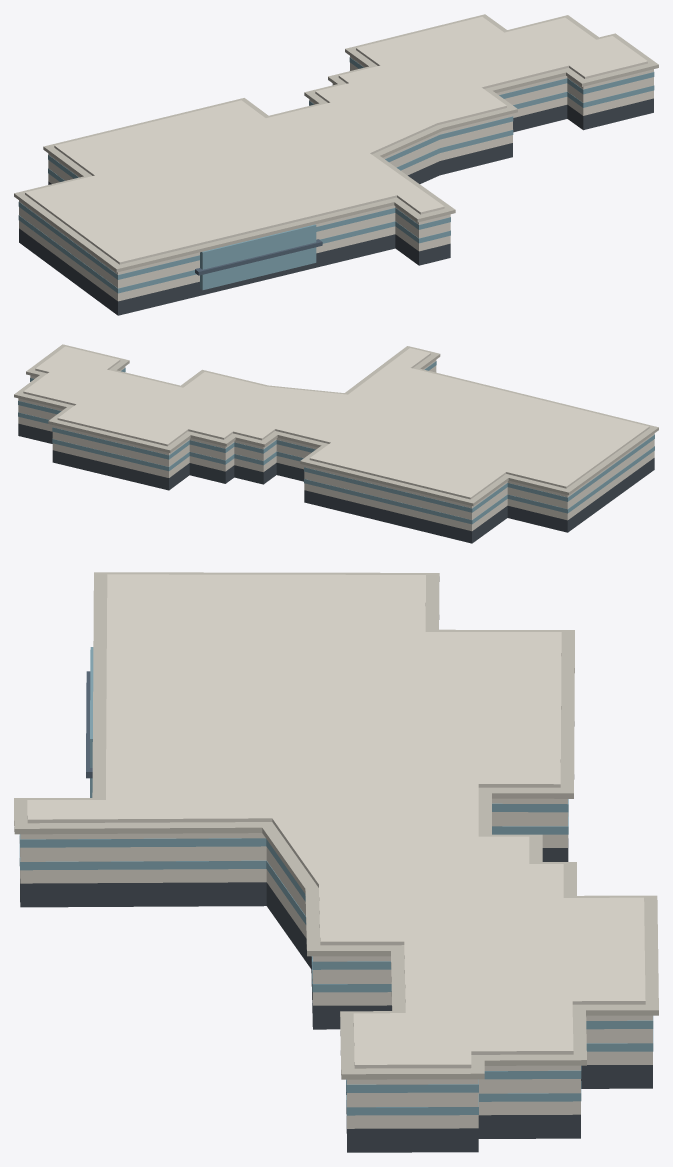
The model's file is ntmofa.glb.
3 views of the same model, one above another, from view 1: azimuth 30°, elevation 25°; view 2: azimuth 150°, elevation 25°; view 3: azimuth 270°, elevation 25° (orthographic). The views are drawn at different scales.
Parts seen in each view (by area): view 1: ntmofa; view 2: ntmofa; view 3: ntmofa.
Part boxes in pixels (left/top/right/bottom): ntmofa: left=14, top=14, right=658, bottom=315; ntmofa: left=14, top=344, right=658, bottom=543; ntmofa: left=14, top=572, right=658, bottom=1152.
Size of the model in its own units: 239 by 18.8 by 130.
